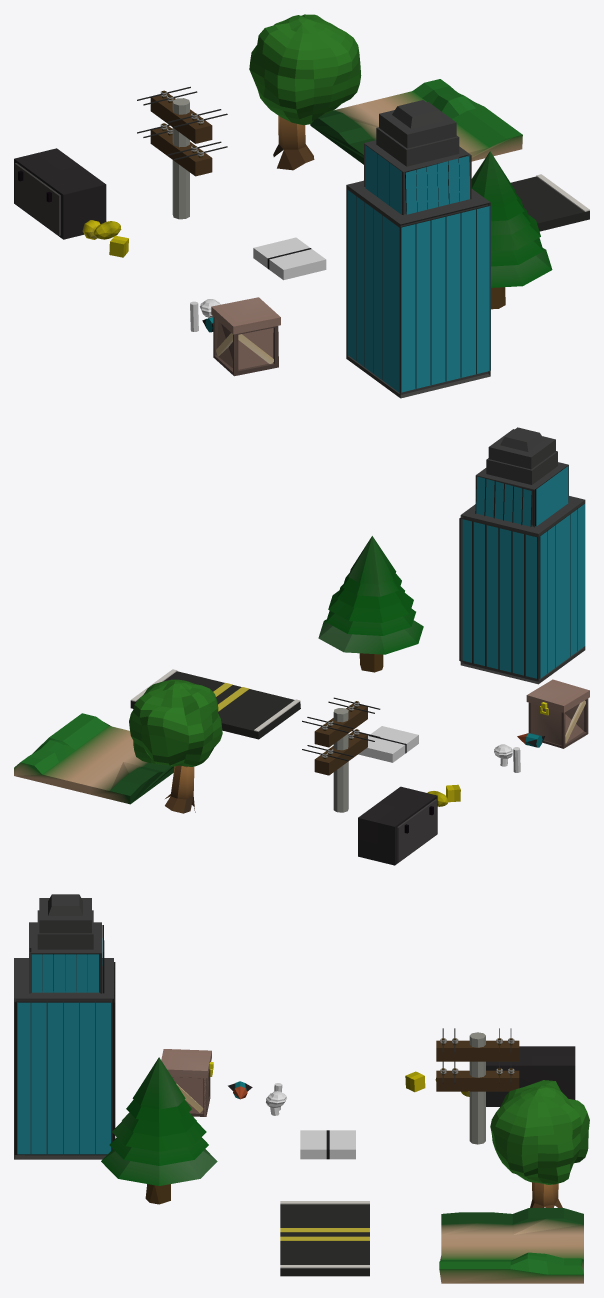
The model's file is modelsHugo.fbx.
The picture shows the model from 3 angles, top to bottom: view 1: azimuth 30°, elevation 25°; view 2: azimuth 150°, elevation 25°; view 3: azimuth 270°, elevation 25°; orthographic projection. The views are drawn at different scales.
Parts seen in each view (by area): view 1: Building, BasicTree, EarthRoad, SteelBox, Pine, PoleElectric, WoodenBox, StreetRoad, Sidewalk; view 2: Building, EarthRoad, Pine, BasicTree, SteelBox, StreetRoad, PoleElectric, WoodenBox, Sidewalk; view 3: Building, EarthRoad, Pine, BasicTree, StreetRoad, PoleElectric, SteelBox, WoodenBox, Sidewalk.
Boxes of the visible parts, x1,y1,x2,y2 form: Building: (346, 100, 490, 398); BasicTree: (249, 14, 361, 170); EarthRoad: (310, 79, 522, 164); SteelBox: (14, 148, 106, 239); Pine: (471, 151, 552, 309); PoleElectric: (137, 86, 227, 219); WoodenBox: (211, 297, 280, 376); StreetRoad: (511, 174, 589, 231); Sidewalk: (253, 237, 326, 280); Building: (459, 427, 585, 684); EarthRoad: (14, 713, 174, 804); Pine: (318, 536, 423, 672); BasicTree: (129, 679, 222, 813); SteelBox: (358, 786, 437, 865); StreetRoad: (130, 669, 300, 739); PoleElectric: (302, 697, 380, 812); WoodenBox: (526, 679, 589, 748); Sidewalk: (358, 726, 418, 762); Building: (14, 894, 115, 1159); EarthRoad: (439, 1208, 583, 1283); Pine: (101, 1057, 217, 1204); BasicTree: (490, 1080, 589, 1207); StreetRoad: (280, 1201, 369, 1276); PoleElectric: (436, 1028, 519, 1144); SteelBox: (486, 1046, 575, 1106); WoodenBox: (161, 1049, 213, 1116); Sidewalk: (300, 1130, 355, 1159).
Size of the model in its own units: 2060 by 1247 by 2519.
